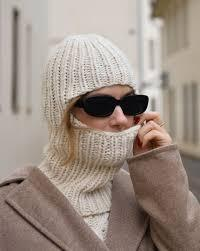scarf-kerchief: (20, 15, 161, 196)
sunglasses: (79, 91, 151, 120)
